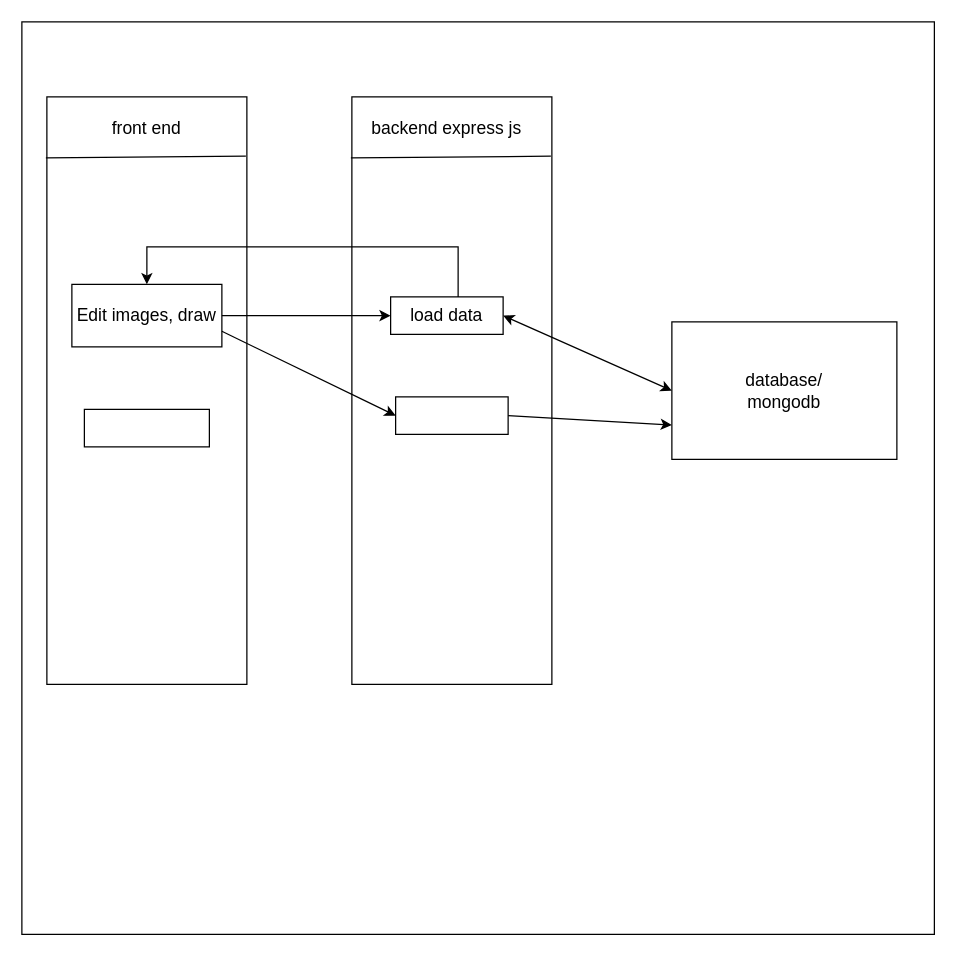
This 956x956 diagram has some shape labels left out. The shapes that lost their labels are listed below. From the top down, each one's centre as x and y in pixels, then its label:
[146,427]: mouse events
[451,415]: save data
